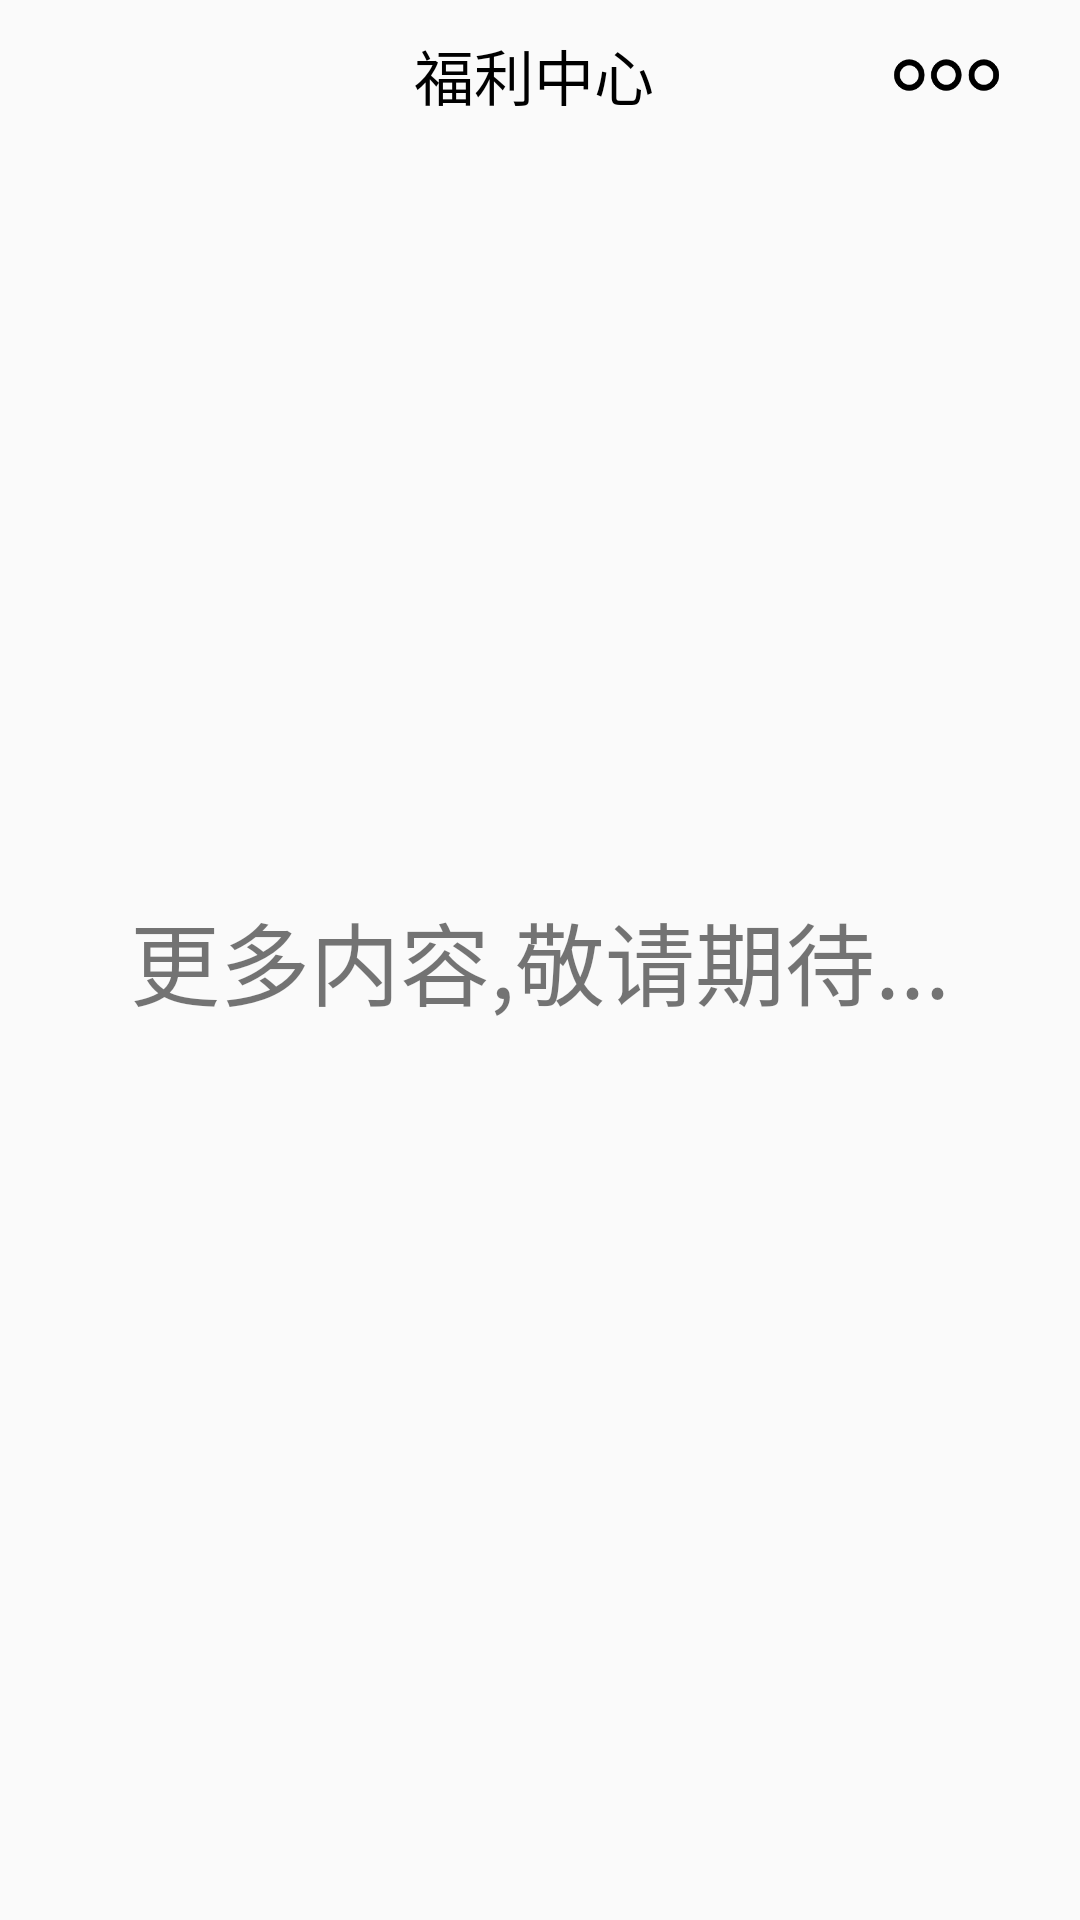

Named icons in this screenshot (1080×1920) and their centers, (x,y):
menu: (946,75)
